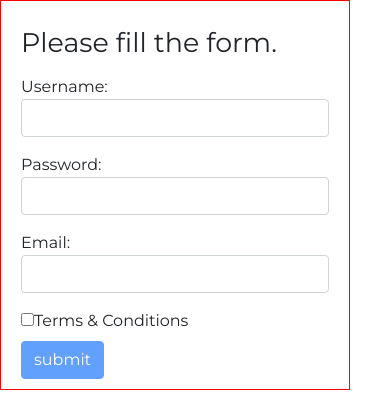
Test: submit button should be Enabled when all fields are filled
The width and height of the screenshot is (367, 407).
Type "Shubham Sharma" into the field labelled "Username:".
click(175, 118); type("Shubham Sharma")  # box [21,99,329,137]
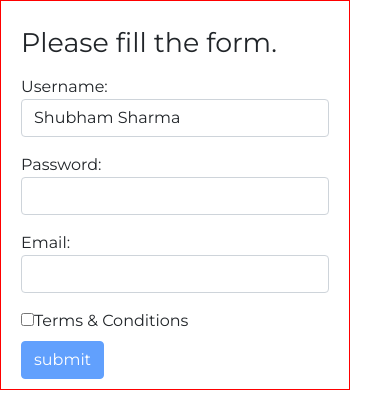
Type "123" into the password field labelled "Password:".
click(175, 196); type("123")  # box [21,177,329,215]
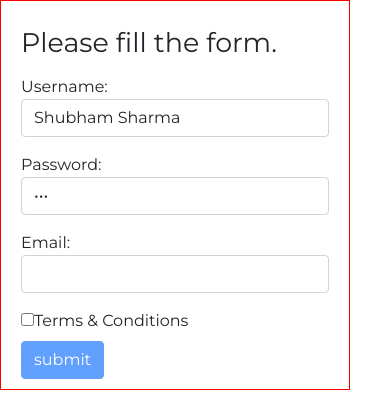
Type "shubusharma29@gmail.com" into the field labelled "Email:".
click(175, 274); type("shubusharma29@gmail.com")  # box [21,255,329,293]
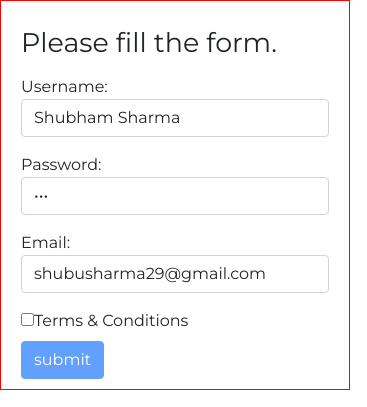
Click the checkbox labelled "Terms & Conditions".
click(28, 320)  # box [21,313,34,326]
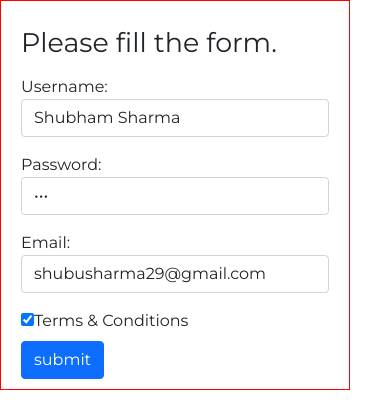
Expected: the button is enabled, [21,341,104,379]
